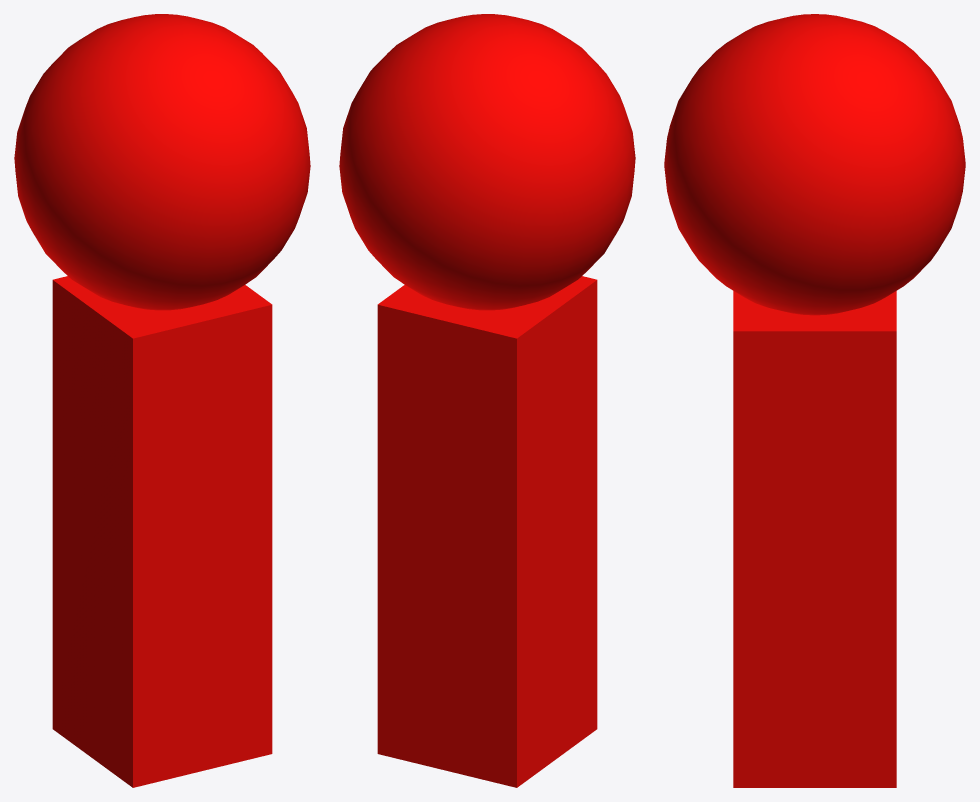
Rendered from enemy.obj.
The picture shows the model from 3 angles, left to right: view 1: azimuth 30°, elevation 25°; view 2: azimuth 150°, elevation 25°; view 3: azimuth 270°, elevation 25°; orthographic projection.
Parts seen in each view (by area): view 1: Dummy; view 2: Dummy; view 3: Dummy.
Part boxes in pixels (<box>): Dummy: <box>14,14,310,787</box>; Dummy: <box>339,14,635,787</box>; Dummy: <box>664,14,965,787</box>.
Bounding box in the file's own units: 0.6227 × 1.65 × 0.6227.
1 material, 1 textured.
